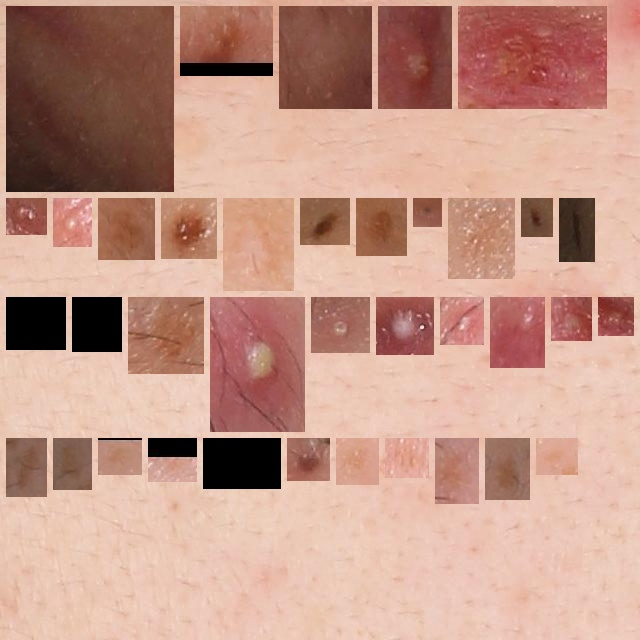hypertrophic_scar: (14, 14, 166, 184), (287, 14, 364, 101), (231, 206, 286, 283)
melasma: (136, 305, 196, 366), (456, 206, 507, 271), (211, 446, 273, 481), (106, 206, 147, 252), (14, 305, 58, 342), (364, 206, 399, 248), (443, 446, 471, 496), (493, 446, 522, 492), (80, 305, 114, 344), (14, 446, 39, 489), (156, 446, 189, 474), (344, 446, 371, 477), (61, 446, 84, 482), (393, 446, 421, 470), (106, 446, 134, 467), (544, 446, 570, 467)
nevus: (188, 14, 265, 68), (169, 206, 209, 251), (308, 206, 342, 237), (567, 206, 587, 254), (295, 446, 322, 473), (529, 206, 545, 229), (421, 206, 434, 219)
pustule: (466, 14, 599, 101), (218, 305, 297, 424), (386, 14, 444, 101), (498, 305, 537, 360), (384, 305, 426, 347), (319, 305, 362, 345), (448, 305, 476, 337), (61, 206, 84, 239), (559, 305, 584, 333), (14, 206, 39, 227), (606, 305, 626, 328)
